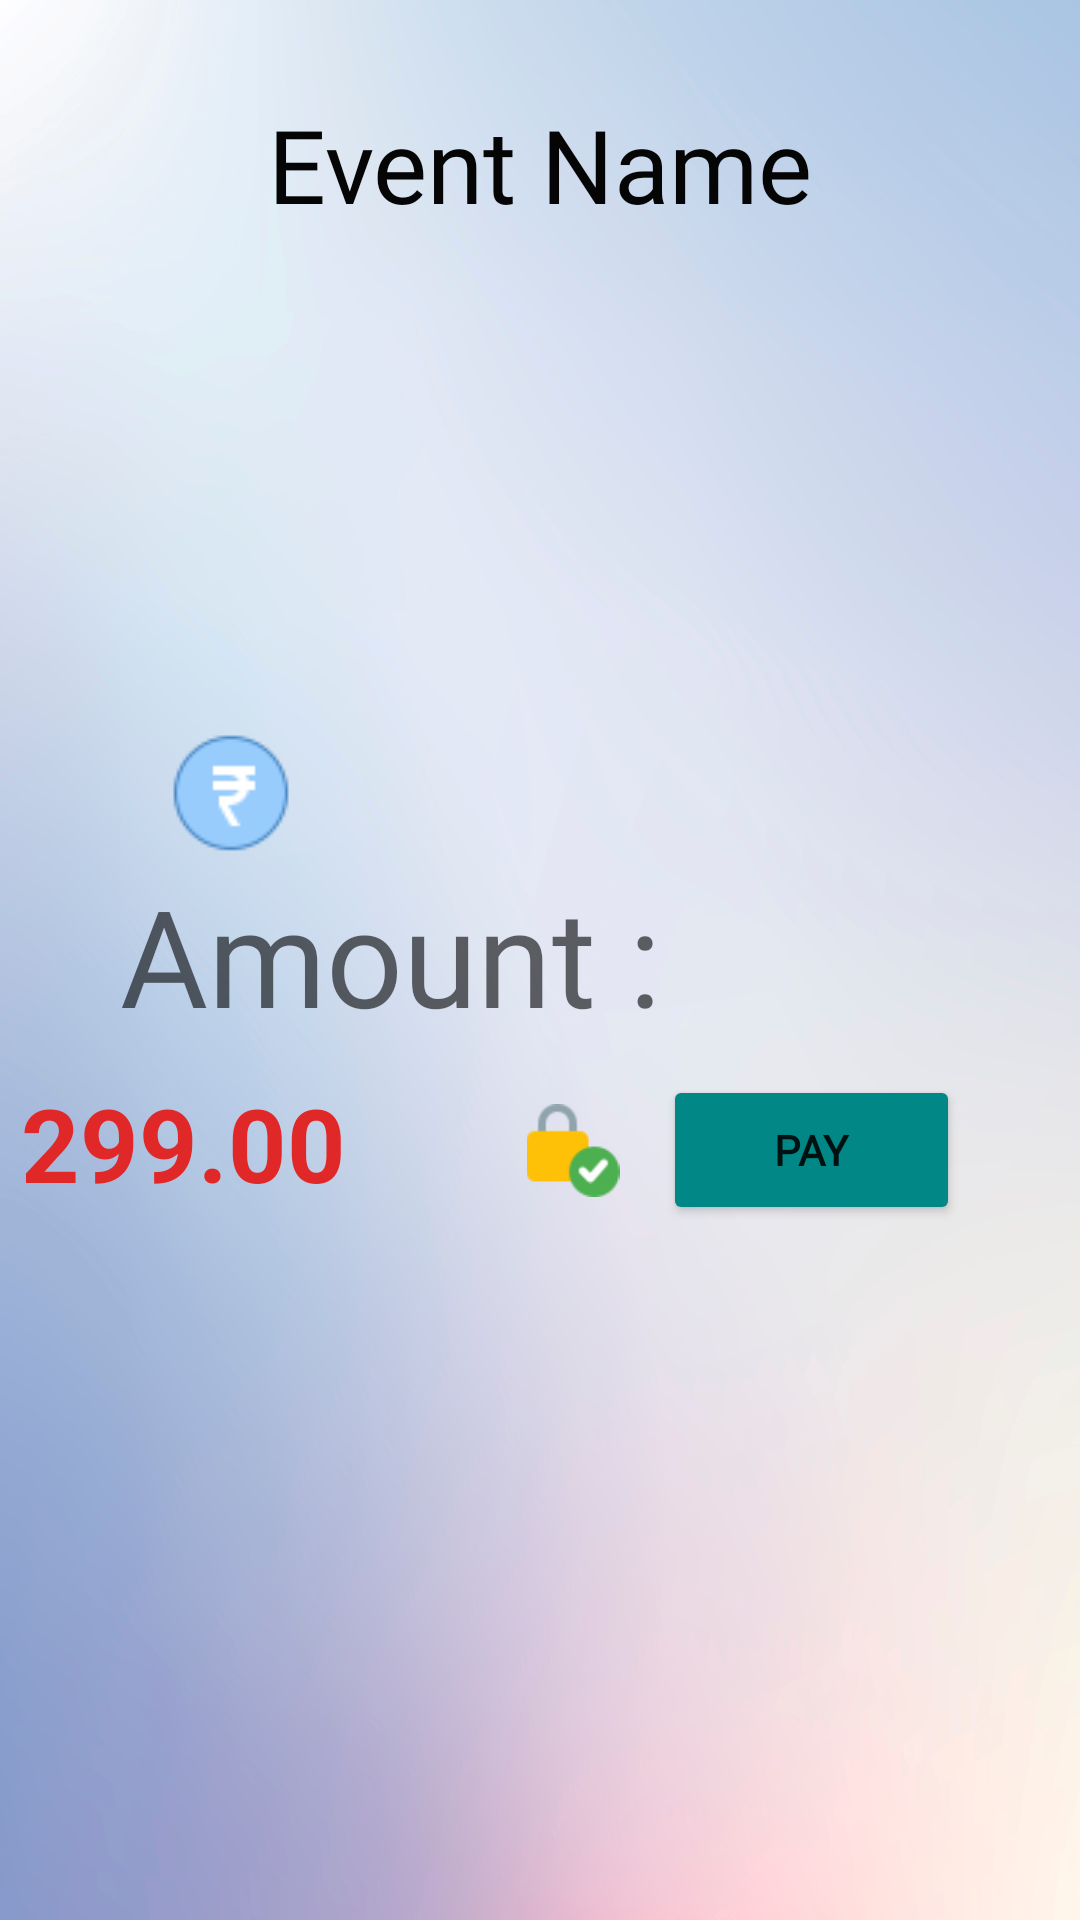

Icons on this 1080 × 1920 Android screen, each with its box as rect(x1, y1, x2, y2):
rup: rect(173, 735, 289, 851)
